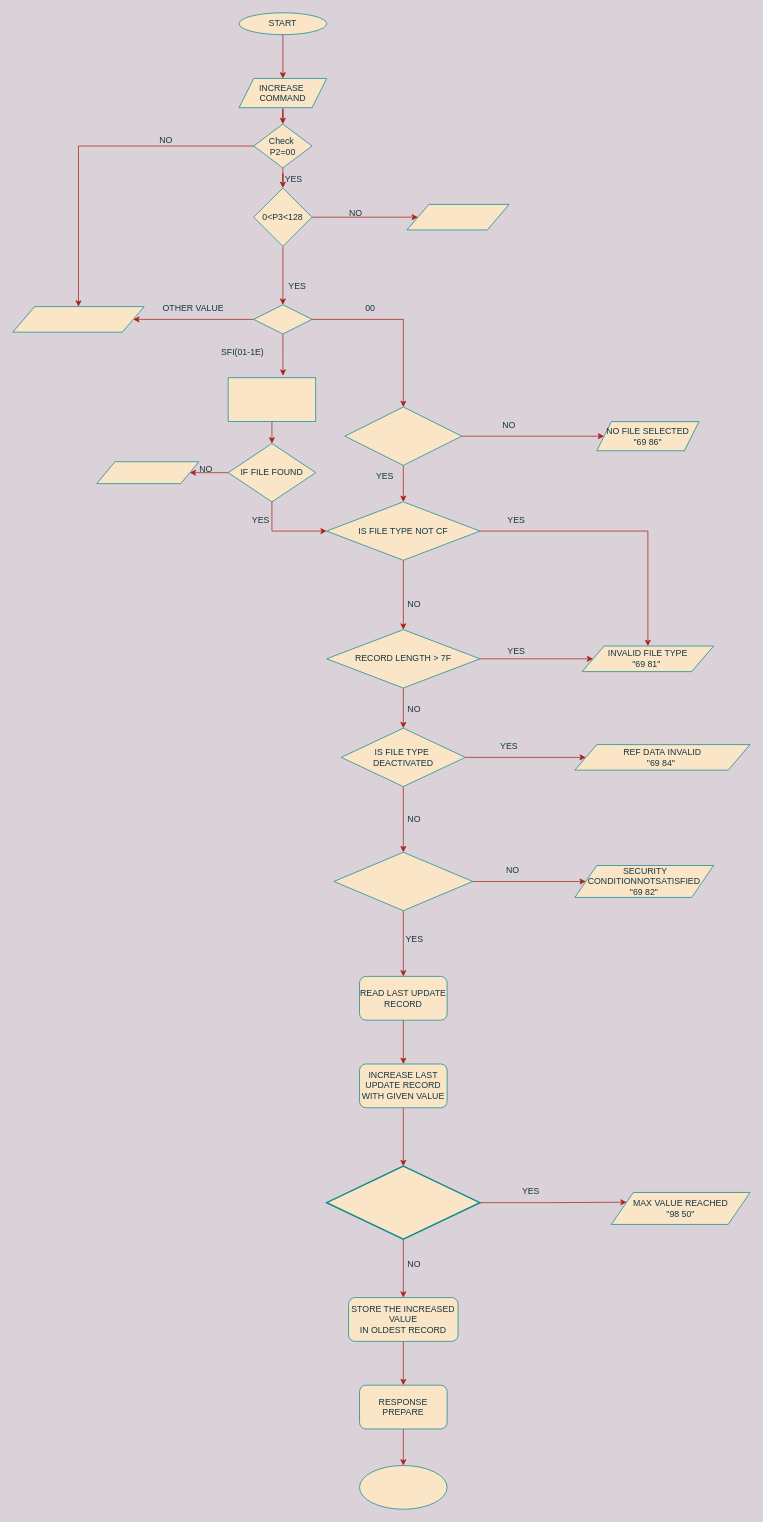
This 763x1522 diagram has some shape labels left out. Each missing label, with the centre of its shape:
CURRENTLY SET EF: [403,435]
END: [403,1487]
FILE NOT FOUND "6A 82": [147,472]
IF INCREASED VALUE IS MORE THAN MAX VALUE: [403,1202]
IS ACCESS CONDITION SATISFIED: [403,881]
P1: [282,319]
SEARCHING FOR FILE AS PER GIVEN SFI: [271,399]
WRONG LENGTH "67 00": [457,217]
WRONG P1,P2 "6B 00": [78,319]
